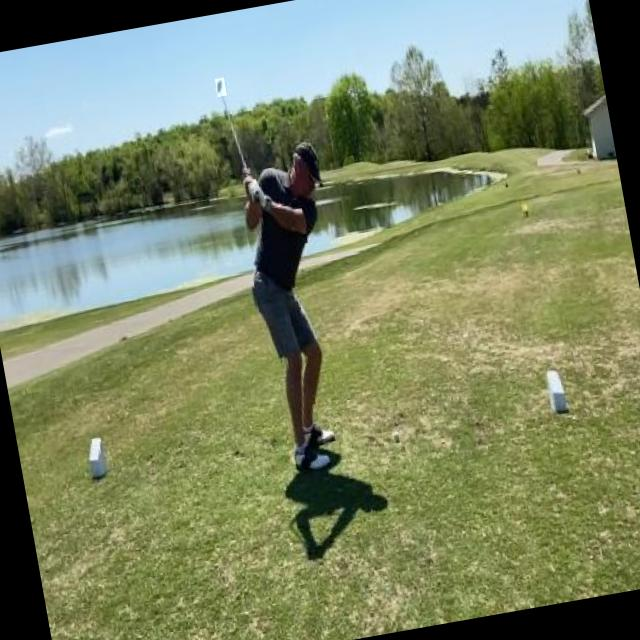club head: (214, 77, 227, 96)
